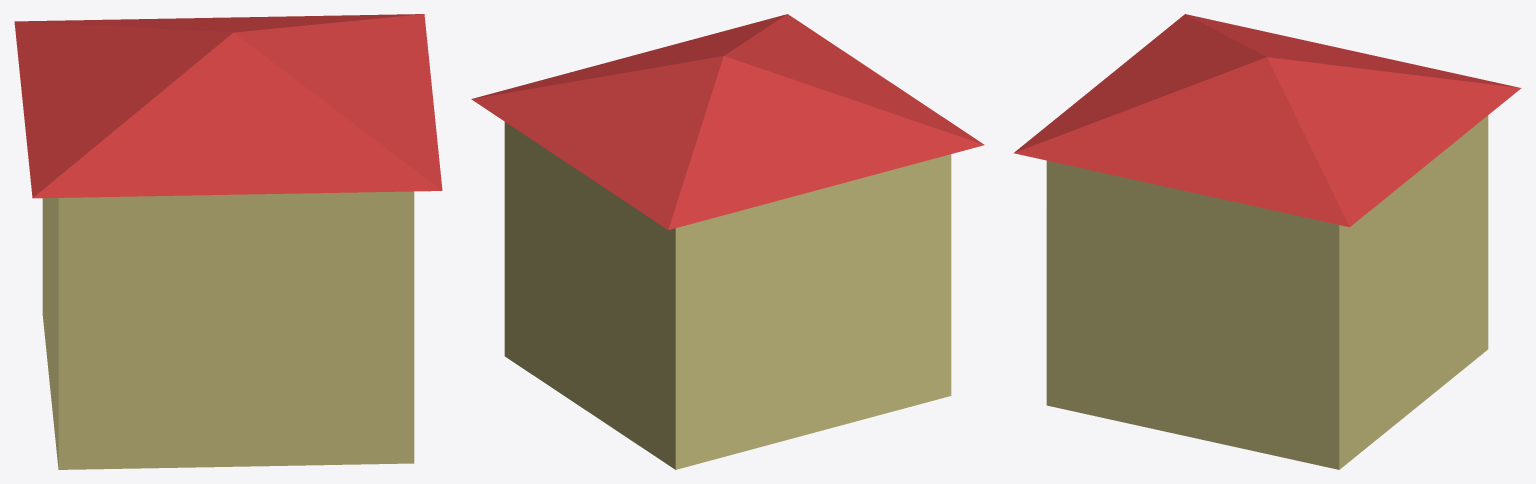
The picture shows the model from 3 angles, left to right: view 1: azimuth 30°, elevation 25°; view 2: azimuth 150°, elevation 25°; view 3: azimuth 270°, elevation 25°; orthographic projection. The views are drawn at different scales.
Visible parts, largest first — view 1: group_5, group_3, group_4; view 2: group_5, group_3, group_4; view 3: group_5, group_3, group_4.
Part boxes in pixels (x1,y1,x2,y2): group_5: (42,191,414,469); group_3: (16,14,442,198); group_4: (14,21,58,197); group_5: (504,122,951,469); group_3: (471,14,983,230); group_4: (668,133,984,229); group_5: (1046,115,1488,469); group_3: (1013,14,1521,227); group_4: (1185,14,1519,87).
Size of the model in its own units: 10.27 by 10.34 by 7.24.
